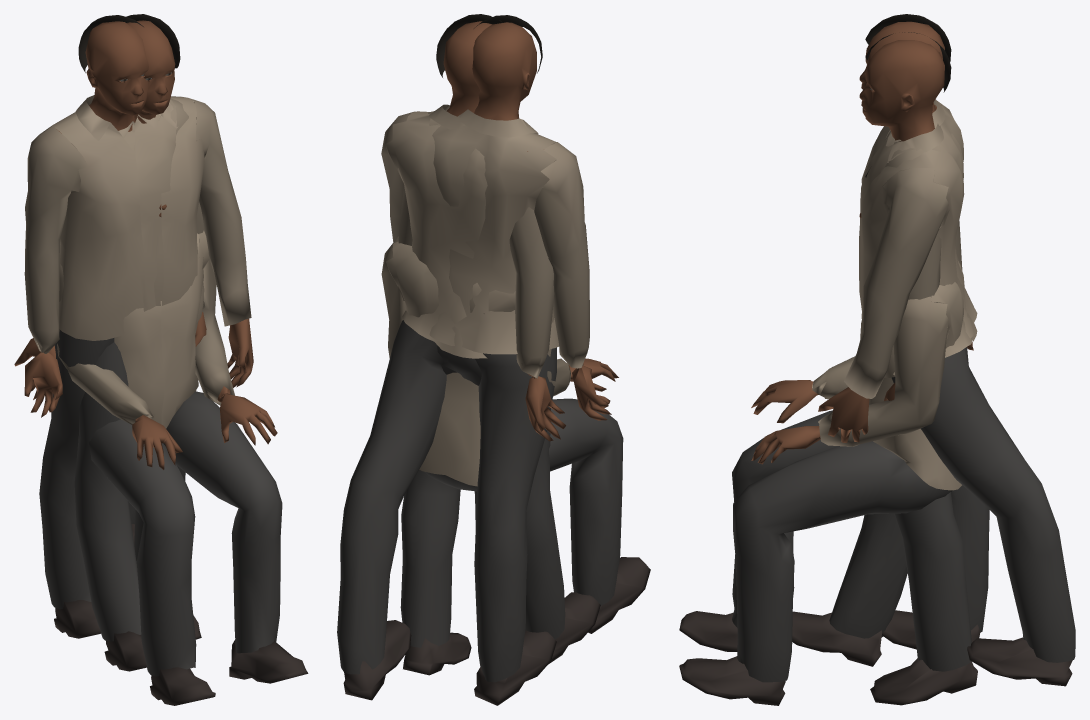
The model's file is crowd-02-crowd.glb.
The picture shows the model from 3 angles, left to right: view 1: azimuth 30°, elevation 25°; view 2: azimuth 150°, elevation 25°; view 3: azimuth 270°, elevation 25°; orthographic projection. The views are drawn at different scales.
Visible parts, largest first — view 1: seated, standing, walking; view 2: standing, walking, seated; view 3: walking, seated, standing.
Boxes of the visible parts, x1,y1,x2,y2 form: seated: (57, 204, 308, 705); standing: (24, 15, 206, 639); walking: (14, 14, 253, 671); standing: (398, 15, 611, 705); walking: (337, 14, 600, 700); seated: (381, 236, 650, 633); walking: (792, 32, 1075, 686); seated: (679, 169, 963, 705); standing: (859, 14, 989, 705).
Size of the model in its own units: 0.6728 by 1.9 by 1.05.
